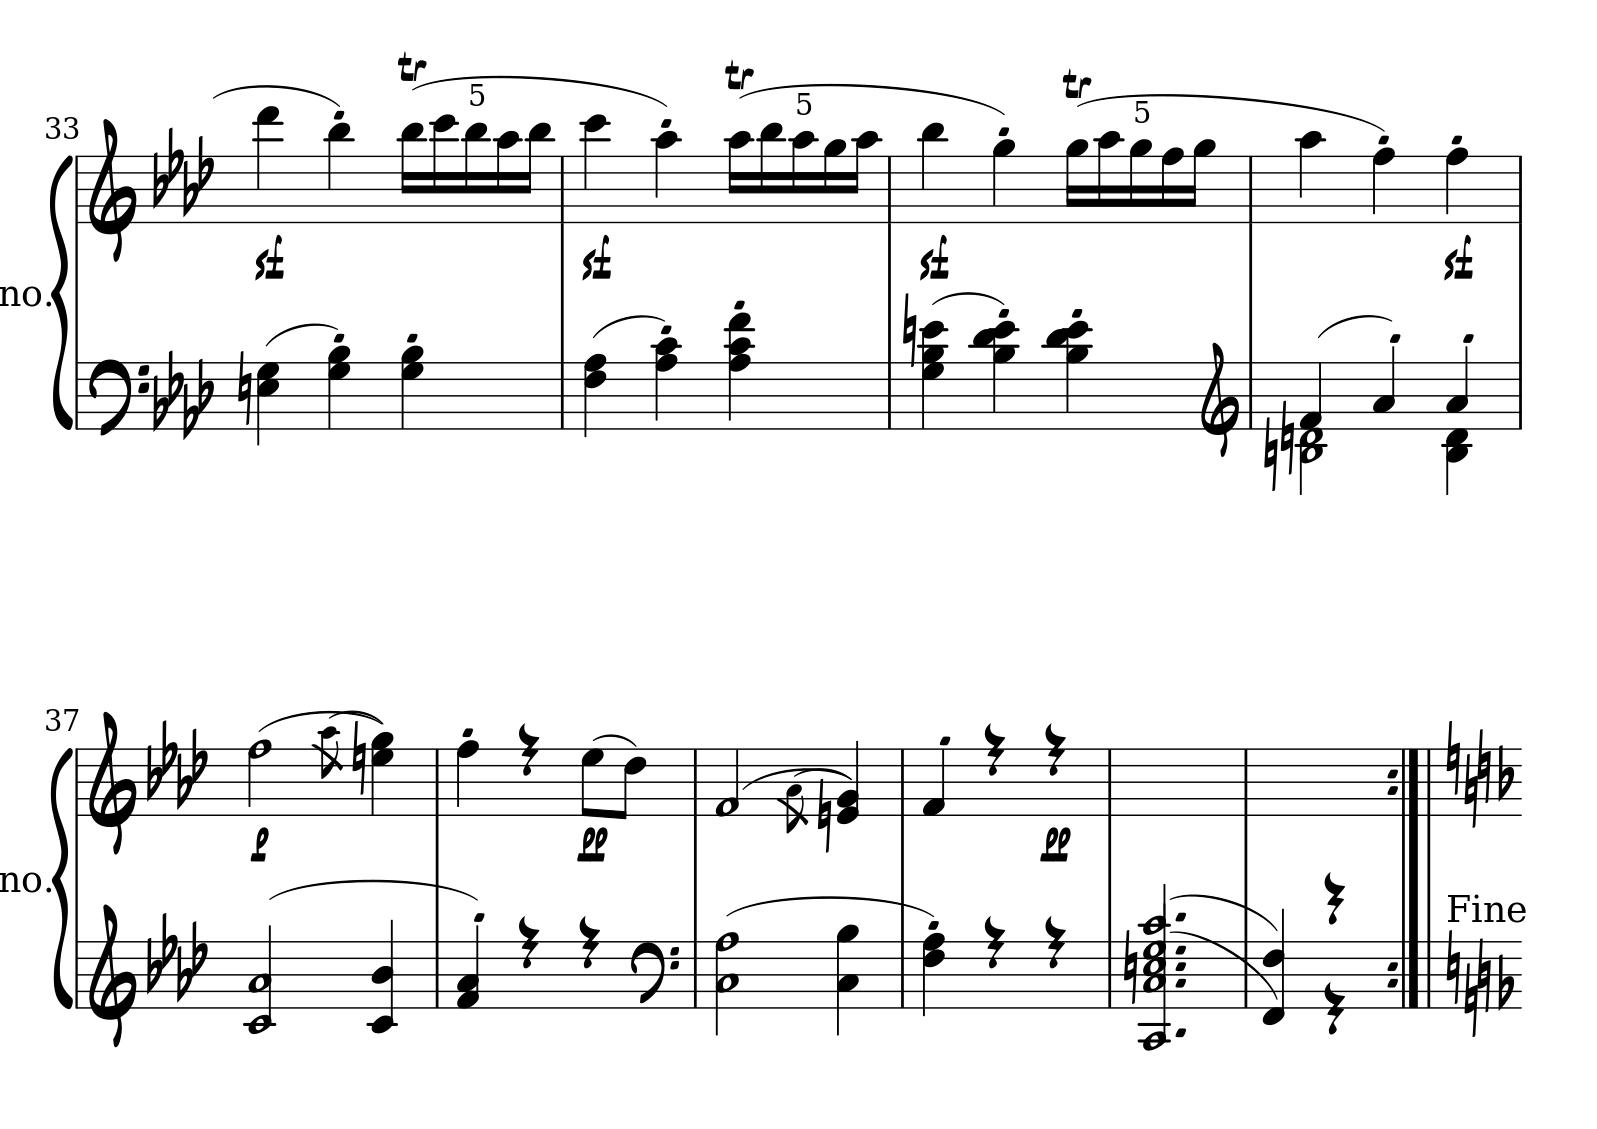16_10: (848, 130, 882, 224), (1096, 128, 1123, 225), (494, 128, 521, 224), (725, 130, 751, 225), (791, 130, 817, 224)
16_11: (521, 121, 554, 224), (758, 121, 784, 225), (398, 121, 425, 224), (462, 122, 488, 225)
16_12: (431, 114, 457, 225)
16_8: (1160, 145, 1184, 225)
16_9: (1185, 137, 1216, 225), (1128, 136, 1152, 226), (1064, 136, 1089, 225), (822, 137, 846, 225)
2_-2_3: (241, 926, 279, 1035)
2_1: (714, 747, 742, 817)
2_3_8: (714, 931, 740, 1040)
2_8: (247, 737, 272, 819)
3: (43, 705, 62, 734), (44, 114, 62, 141), (62, 114, 79, 141)
4_-1_6: (1260, 907, 1288, 1026)
4_-2_3: (367, 919, 401, 1036)
4_0_2: (836, 740, 860, 826)
4_1: (921, 747, 948, 819)
4_10: (652, 130, 681, 225), (1296, 130, 1325, 224)
4_11: (918, 121, 946, 224), (325, 122, 353, 224)
4_12: (580, 112, 610, 224)
4_13: (254, 105, 282, 225)
4_1_3: (455, 923, 481, 1010)
4_3: (1372, 345, 1397, 430), (1445, 346, 1470, 426)
4_3_8: (836, 923, 860, 1036)
4_5_7: (257, 359, 281, 448)
4_6_8: (921, 931, 947, 1019), (583, 351, 607, 437)
4_7_9: (326, 345, 353, 433), (398, 342, 425, 430), (369, 732, 395, 817)
4_8: (455, 739, 480, 817), (1371, 145, 1395, 225), (1444, 145, 1469, 225)
4_8_10: (649, 336, 683, 431)
4_9: (991, 137, 1017, 224)
4_th: (1043, 320, 1096, 431), (974, 321, 1021, 431), (725, 313, 755, 433), (919, 318, 947, 431)
5: (793, 89, 816, 119), (466, 79, 488, 109), (1131, 98, 1153, 126)
7: (62, 705, 79, 733)
8_6: (616, 747, 648, 820)
8_7: (579, 745, 604, 819)
A_F: (145, 718, 209, 811), (152, 125, 214, 217), (145, 912, 208, 1002), (152, 349, 214, 437)
Acciaccature: (780, 769, 811, 835), (314, 720, 345, 782)
Brace: (51, 154, 73, 434), (53, 740, 73, 1012)
Fclef: (88, 357, 148, 439), (629, 938, 681, 1012)
Flat: (1497, 740, 1514, 803), (1497, 949, 1513, 1012)
Gclef: (86, 116, 137, 261), (87, 709, 137, 854), (88, 902, 137, 1047), (1200, 340, 1241, 457)
Natural: (235, 349, 253, 431), (901, 290, 919, 370), (349, 718, 368, 799), (815, 776, 833, 853), (1120, 927, 1139, 1004), (1279, 397, 1296, 477), (1445, 720, 1461, 798), (1445, 927, 1461, 1006), (1263, 413, 1279, 489), (1463, 753, 1478, 827), (1463, 960, 1478, 1035), (1477, 728, 1491, 805), (1477, 936, 1491, 1013)
Rests4: (1321, 977, 1347, 1037), (516, 913, 541, 971), (516, 721, 541, 778), (577, 914, 602, 971), (982, 721, 1007, 778), (1042, 721, 1067, 778), (982, 913, 1007, 970), (1042, 913, 1067, 970), (1323, 870, 1347, 926)
RightRepeatSign: (1387, 747, 1434, 815), (1384, 940, 1421, 1008)
Single_barline: (1420, 747, 1438, 815), (1241, 155, 1260, 221), (1422, 938, 1439, 1008), (894, 747, 912, 814), (894, 940, 912, 1007), (1511, 155, 1529, 221), (1511, 363, 1529, 428), (1101, 748, 1118, 813), (882, 155, 898, 221), (1243, 360, 1259, 426), (1238, 941, 1254, 1007), (1238, 748, 1254, 813), (688, 941, 704, 1006), (555, 360, 569, 429), (1103, 940, 1118, 1008), (882, 362, 897, 428), (430, 748, 445, 814), (688, 748, 703, 813), (430, 941, 445, 1006), (71, 940, 84, 1008), (556, 155, 569, 221), (71, 362, 84, 426)
Slur: (1079, 93, 1384, 132), (740, 83, 1008, 119), (412, 75, 665, 106), (1174, 927, 1278, 1001), (269, 879, 475, 901), (728, 894, 934, 916), (1171, 896, 1276, 929), (211, 84, 338, 108), (255, 709, 389, 731), (742, 767, 841, 792), (1316, 312, 1393, 340), (590, 313, 668, 338), (263, 321, 340, 347), (930, 290, 1006, 308), (595, 732, 637, 748)
Trill: (393, 46, 429, 82), (723, 56, 756, 90), (1061, 65, 1094, 98)
dot: (1167, 934, 1205, 964), (1173, 1024, 1191, 1039), (1172, 909, 1189, 923), (1174, 975, 1189, 988), (1173, 943, 1188, 955), (1174, 960, 1188, 973)
p: (248, 826, 272, 865)
pp: (576, 824, 610, 864), (1039, 824, 1073, 864)
sf: (582, 235, 613, 281), (254, 235, 285, 281), (919, 235, 949, 281), (1444, 235, 1474, 281)
